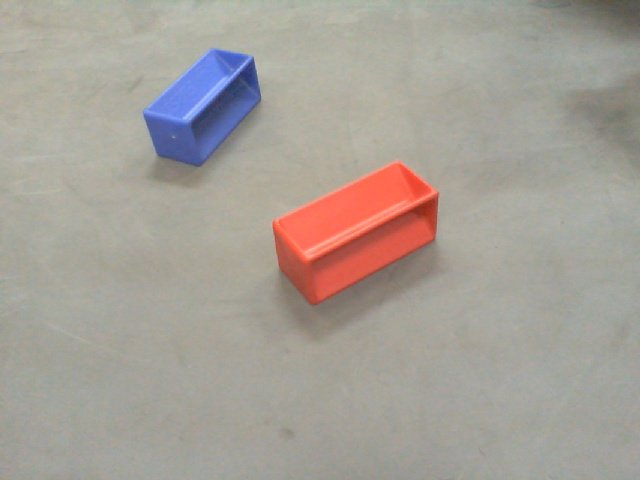BlueSample: (140, 46, 265, 169)
RedSample: (264, 157, 447, 304)
